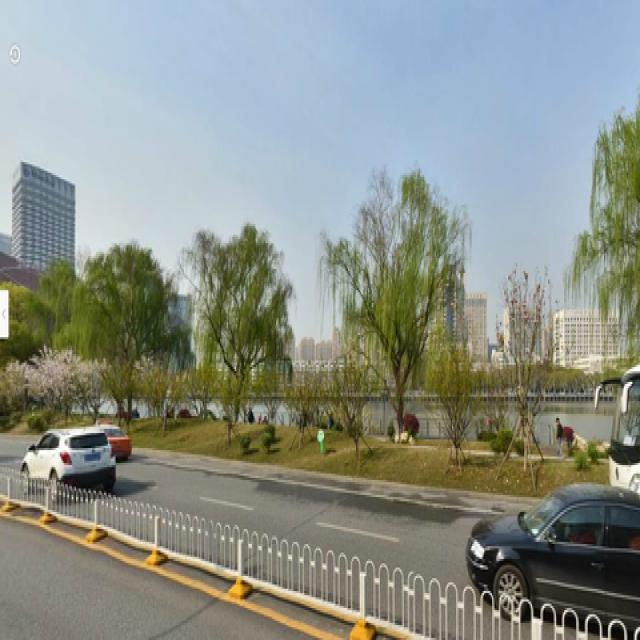plat: (336, 177, 449, 450), (173, 222, 303, 424), (71, 252, 168, 420)
